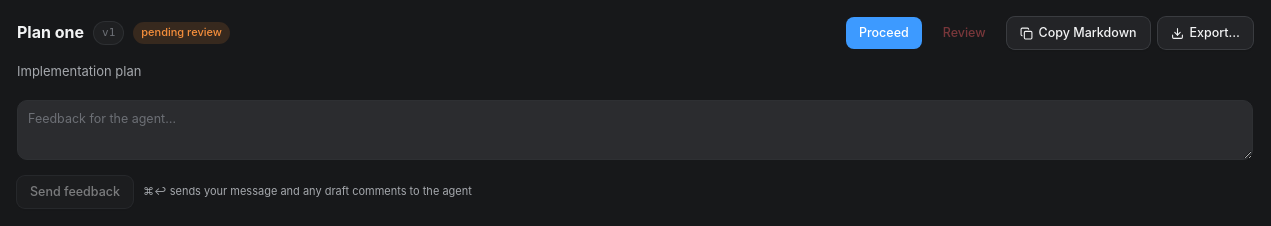
Test: ArtifactViewer plan resolution feedback › clears acknowledgment immediately when the selected artifact changes
Click the button "Proceed": click(884, 33) [846, 17, 922, 49]
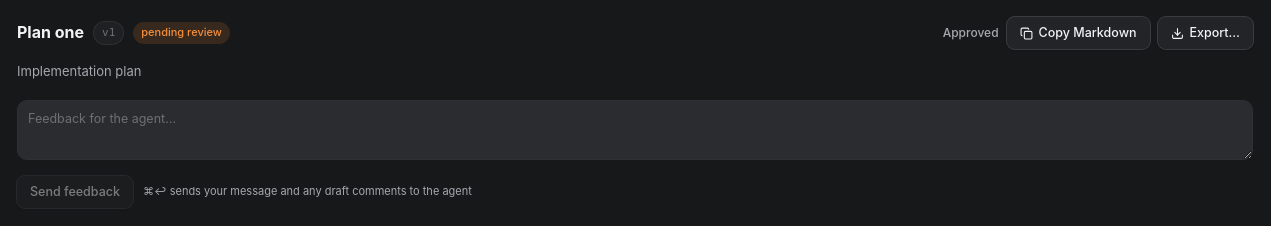
Check: the message reads "Approved", box [943, 25, 999, 40]
